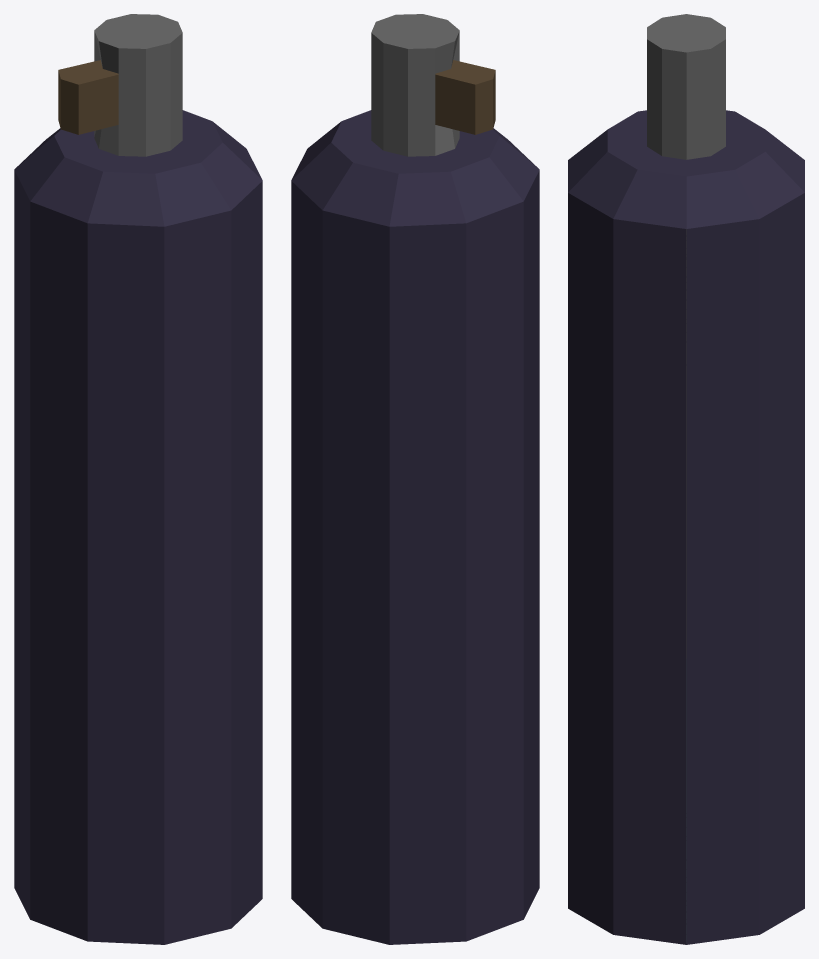
Rendered from GasCanister.fbx.
The picture shows the model from 3 angles, left to right: view 1: azimuth 30°, elevation 25°; view 2: azimuth 150°, elevation 25°; view 3: azimuth 270°, elevation 25°; orthographic projection.
Visible parts, largest first — view 1: cylinder; view 2: cylinder; view 3: cylinder.
Part boxes in pixels (x1=…): cylinder: x1=14, y1=14, x2=262, y2=944; cylinder: x1=291, y1=14, x2=539, y2=944; cylinder: x1=568, y1=14, x2=804, y2=944.
Bounding box in the file's own units: 19.71 × 75 × 18.75.
1 material, 1 textured.
